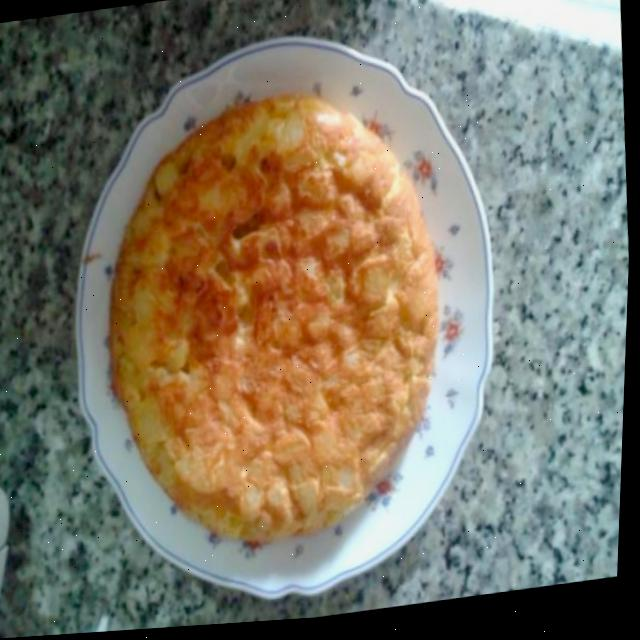面包点心: (59, 30, 502, 597)
